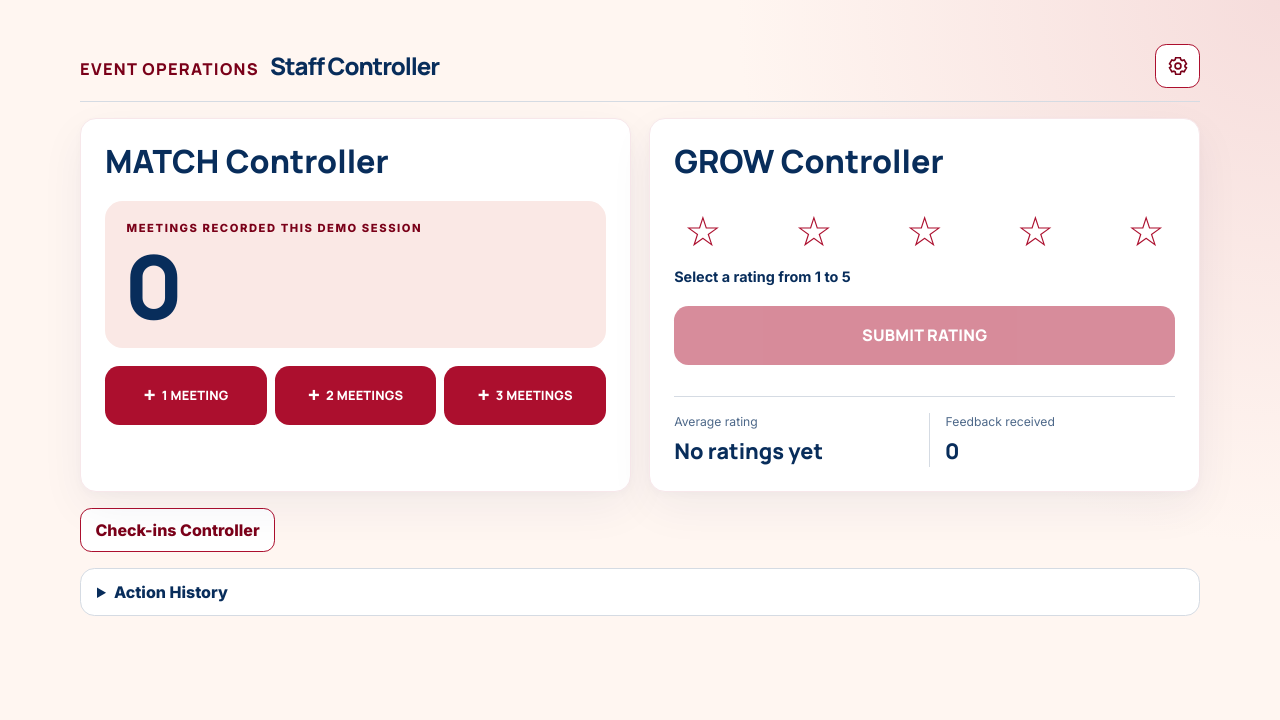
Scenario: StaffController › locks the rating after failure and safely retries the same feedback
Check: the text "No ratings yet" is shown, box [674,436,823,464]
Click the button named "5 stars".
click(1146, 231)  # box [1117,203,1175,260]
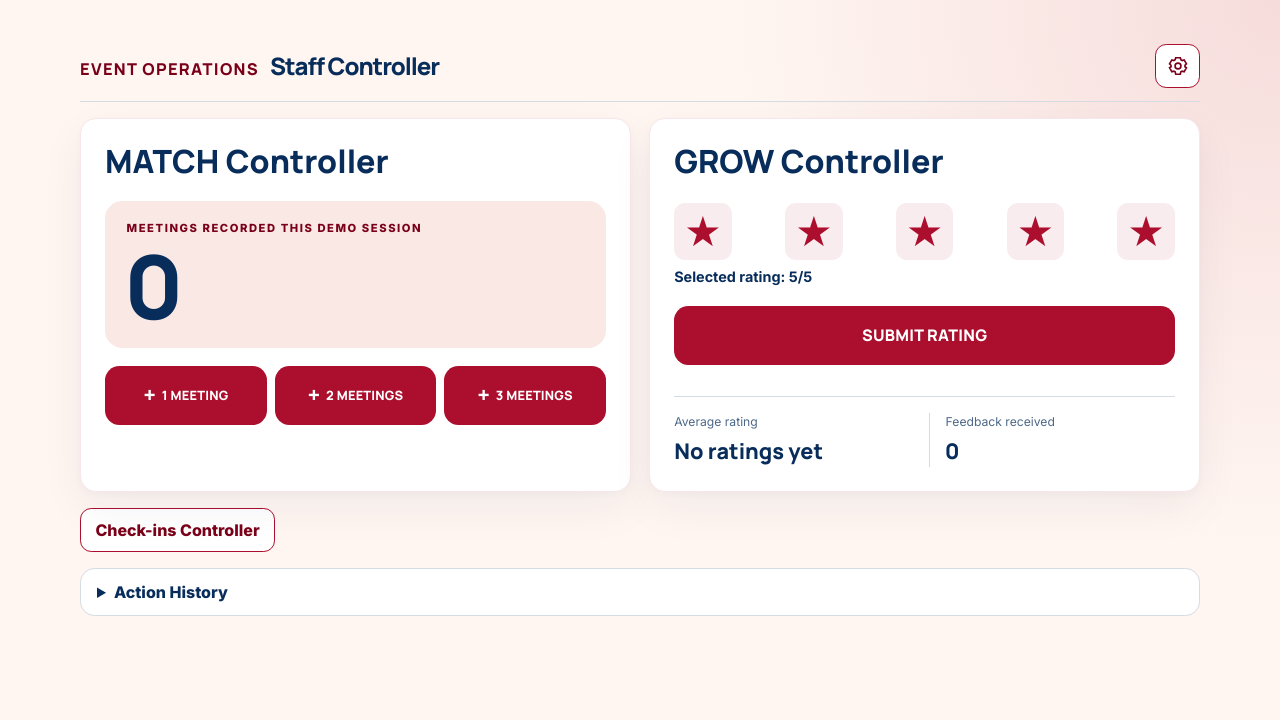
Click the button "Submit Rating".
click(925, 335)  # box [674,306,1175,365]
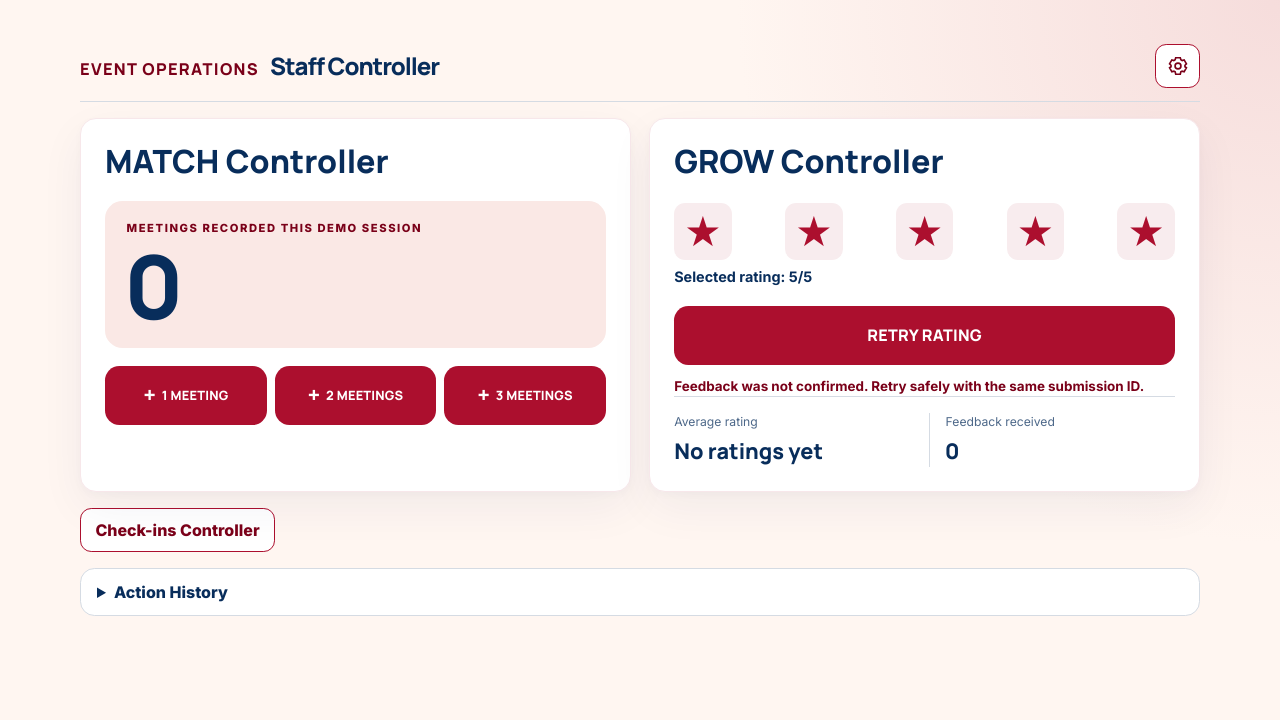
Check: the button named "4 stars" is disabled, box [1007,203,1064,260]
Check: the text "Feedback was not confirmed. Retry safely with the same submission ID." is shown, box [674,377,1175,396]
Click the button "Retry Rating".
click(925, 335)  # box [674,306,1175,365]
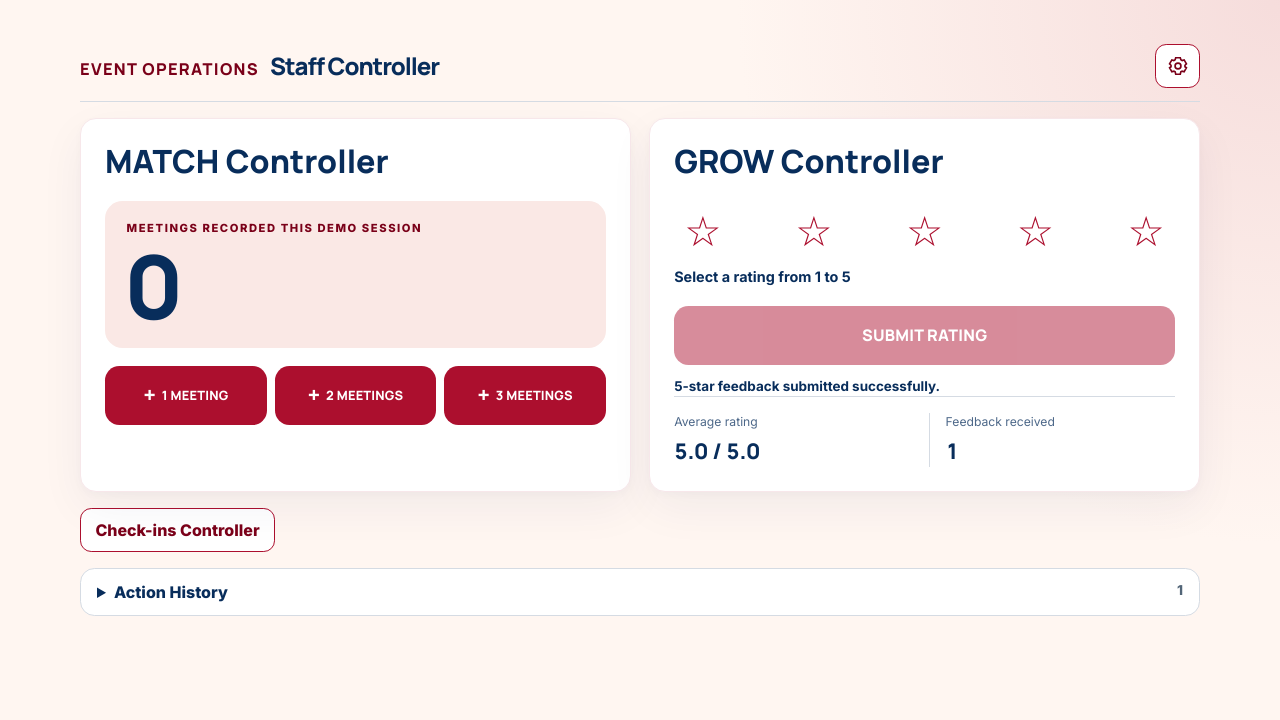
Check: the text "5-star feedback submitted successfully." is shown, box [674,378,940,394]
Check: the text "5.0 / 5.0" is shown, box [674,436,760,464]
Check: the text "1" below "Feedback received" is shown, box [946,436,959,464]
